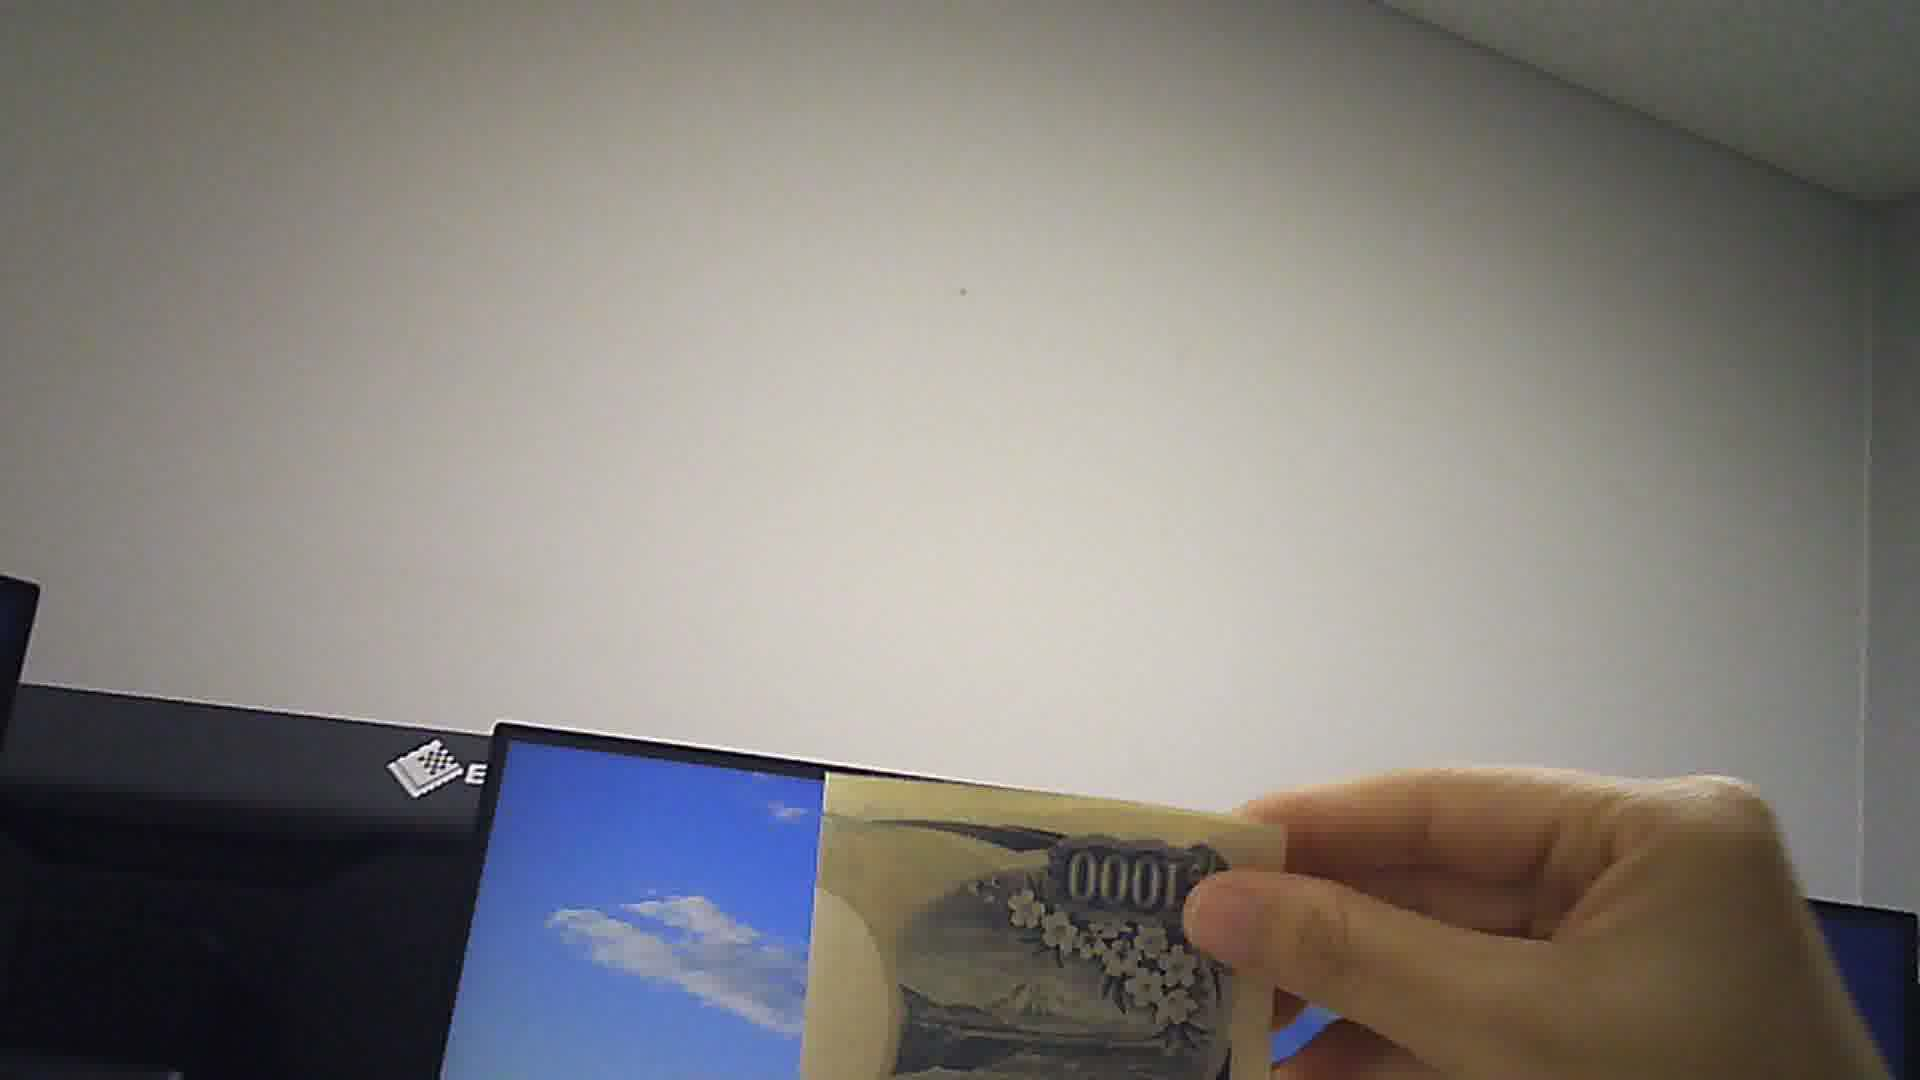1,000 Yen: (796, 761, 1298, 1075)
